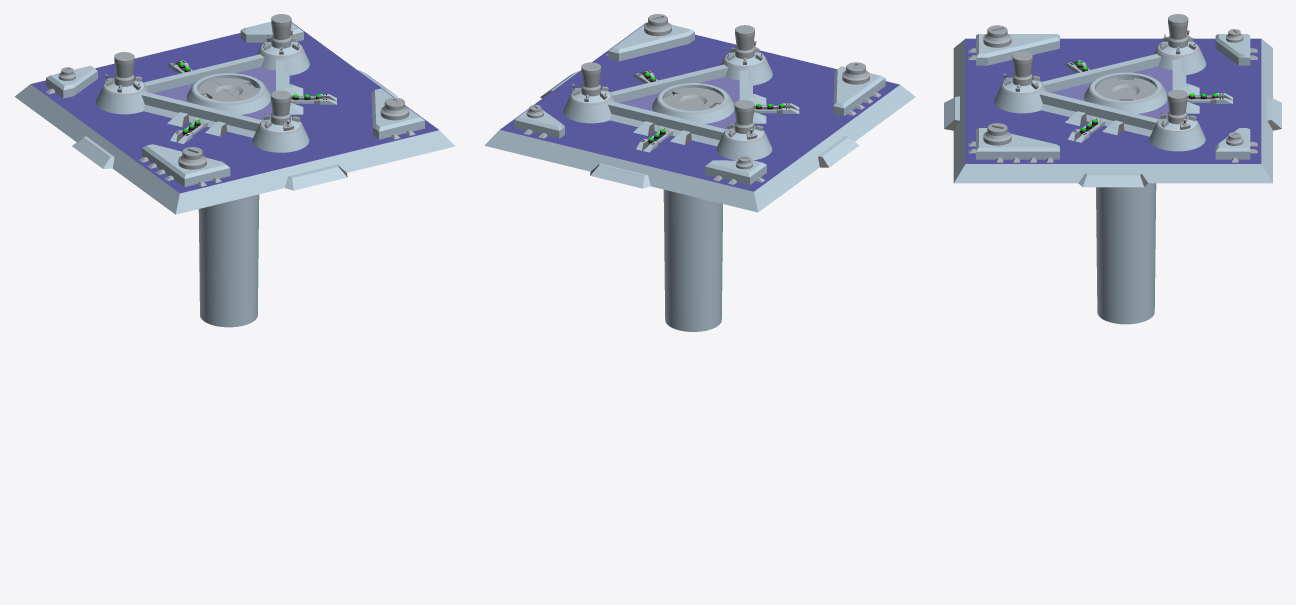
Rendered from Maaker3.fbx.
3 views of the same model, side by side, from view 1: azimuth 30°, elevation 25°; view 2: azimuth 150°, elevation 25°; view 3: azimuth 270°, elevation 25° (orthographic). The views are drawn at different scales.
Visible parts, largest first — view 1: foundation_12, hole_base, boots, base, _pillar3, _pillar1, _pillar2, deets, door; view 2: foundation_12, hole_base, boots, base, _pillar1, _pillar2, deets, _pillar3, door; view 3: foundation_12, hole_base, boots, base, _pillar2, deets, _pillar3, _pillar1, door (×2).
Boxes of the visible parts, left/top/right/bottom form: foundation_12: left=14, top=22, right=455, bottom=214; hole_base: left=186, top=73, right=270, bottom=327; boots: left=46, top=21, right=424, bottom=190; base: left=141, top=54, right=289, bottom=137; _pillar3: left=252, top=90, right=309, bottom=152; _pillar1: left=96, top=52, right=148, bottom=114; _pillar2: left=256, top=14, right=309, bottom=75; deets: left=46, top=67, right=415, bottom=186; door: left=214, top=78, right=259, bottom=100; foundation_12: left=484, top=22, right=915, bottom=212; hole_base: left=652, top=83, right=734, bottom=331; boots: left=514, top=22, right=885, bottom=188; base: left=608, top=64, right=752, bottom=146; _pillar1: left=716, top=100, right=772, bottom=160; _pillar2: left=563, top=62, right=614, bottom=123; deets: left=523, top=14, right=881, bottom=184; _pillar3: left=721, top=25, right=772, bottom=85; door: left=663, top=87, right=708, bottom=109; foundation_12: left=953, top=38, right=1272, bottom=183; hole_base: left=1084, top=72, right=1167, bottom=324; boots: left=944, top=34, right=1281, bottom=187; base: left=1039, top=54, right=1186, bottom=136; _pillar2: left=1149, top=89, right=1205, bottom=151; deets: left=968, top=25, right=1257, bottom=162; _pillar3: left=994, top=51, right=1046, bottom=113; _pillar1: left=1153, top=14, right=1206, bottom=74; door (×2): left=1095, top=78, right=1156, bottom=100.
Bounding box in the file's own units: 517 × 897 × 517.
